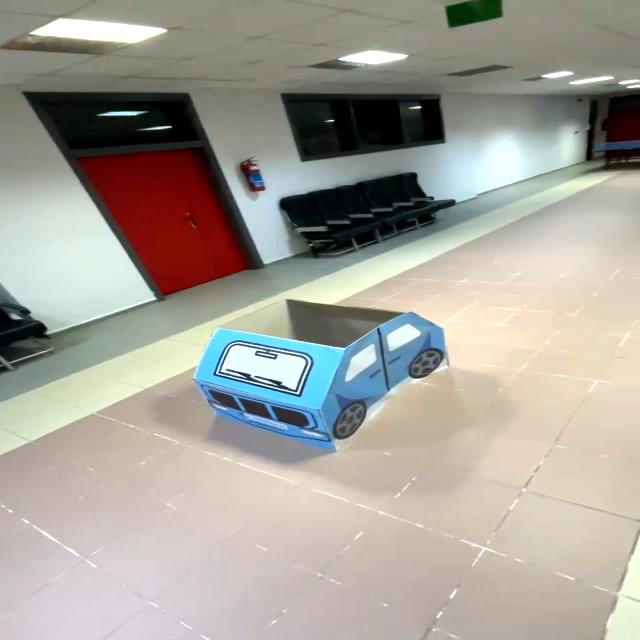blue_car: (171, 282, 465, 462)
